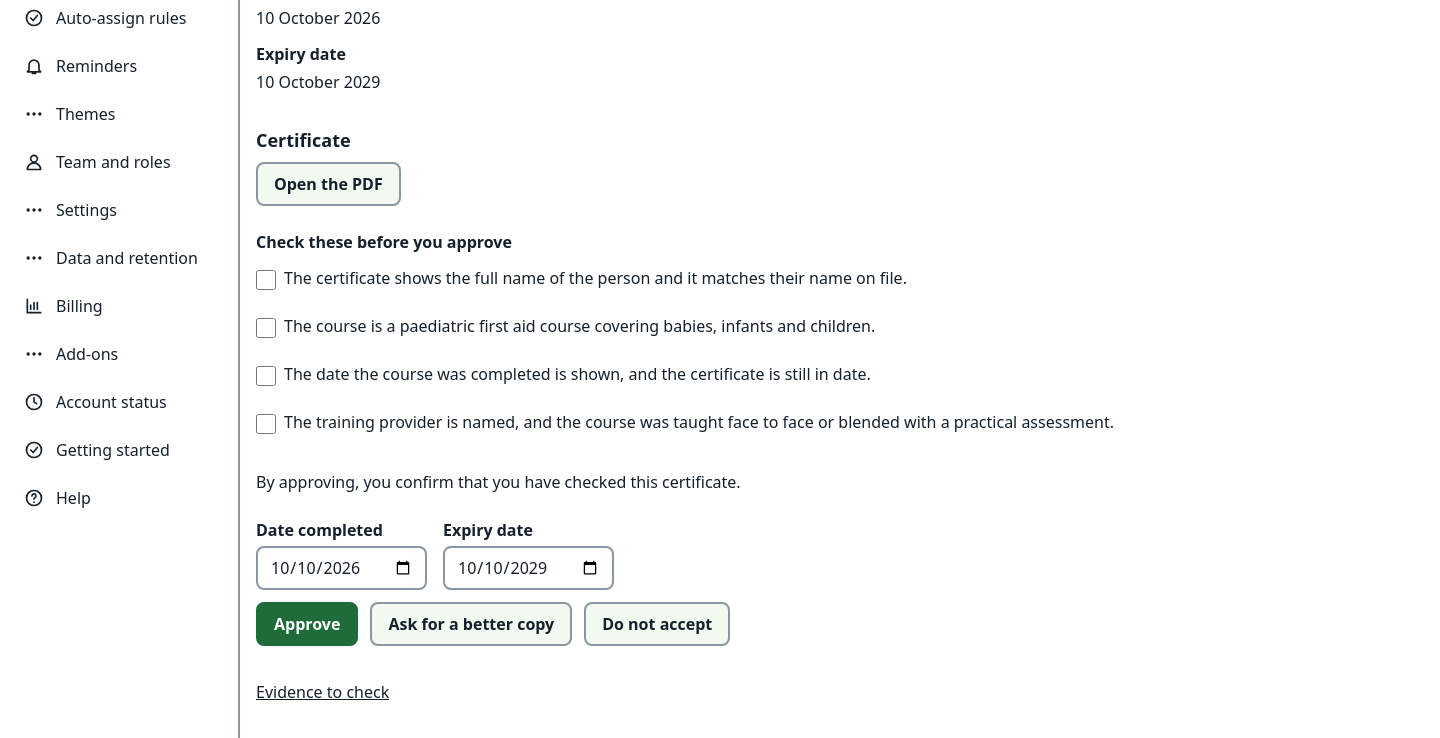
Scenario: C27 Evidence to check: review › approves with the dates as entered, creating Evidence and no second submission
(page scrolled)
Click the button "Approve" at (307, 624), box [256, 602, 358, 646]
(page scrolled)
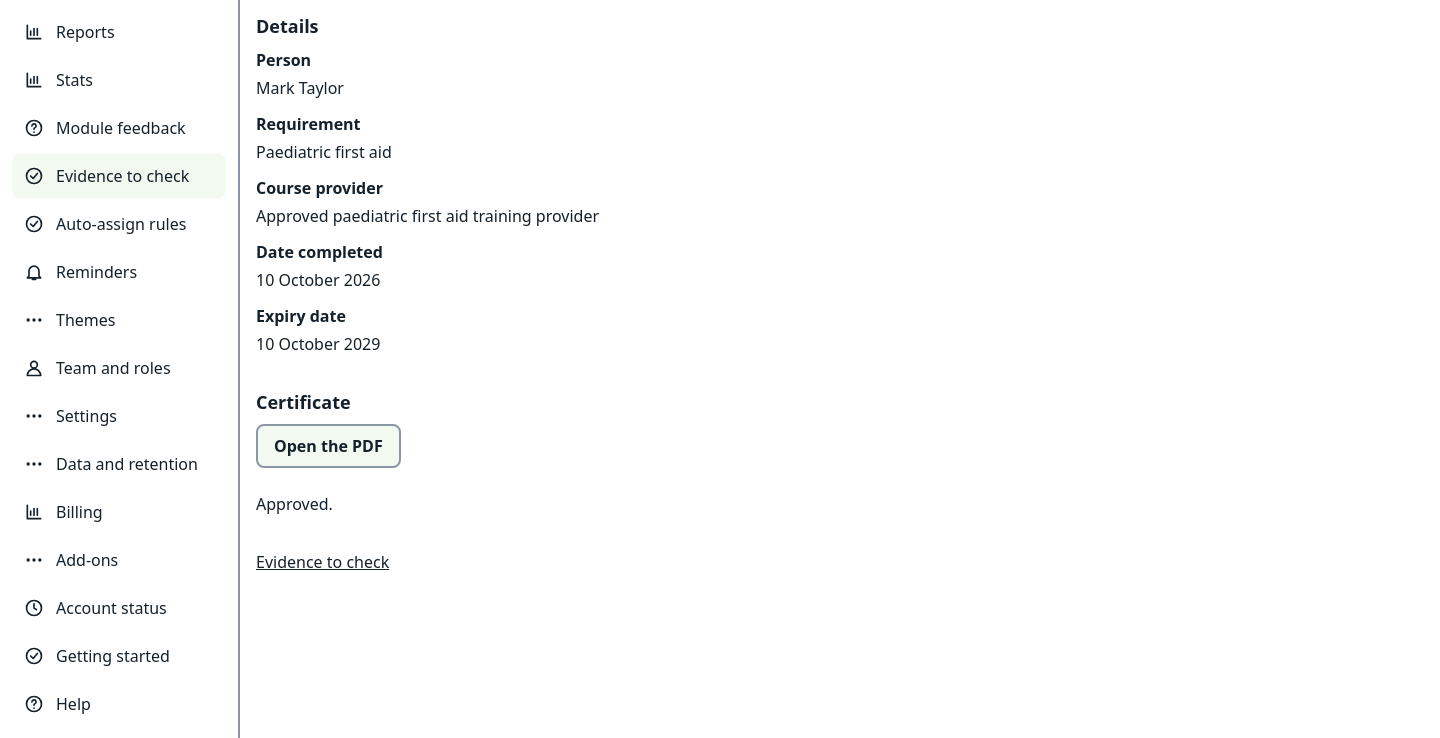
Check: the message reads "Approved.", box [256, 493, 333, 515]
